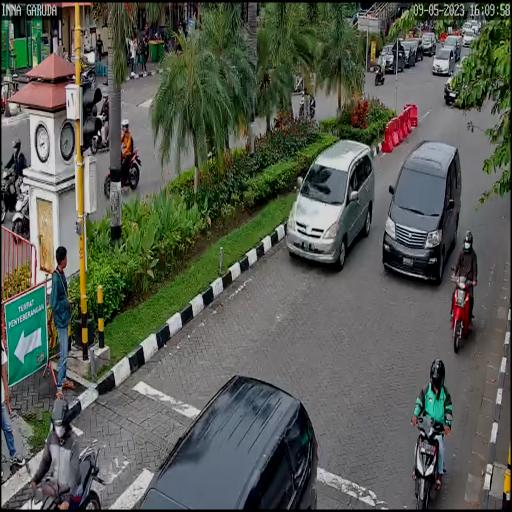mobil: (281, 134, 376, 271), (379, 138, 464, 288)
motor: (411, 395, 452, 512), (447, 267, 479, 356)
